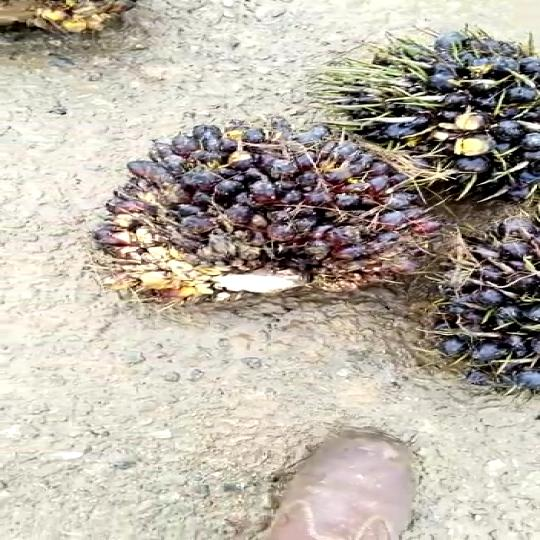mentah: (90, 119, 393, 316), (326, 39, 540, 197)
